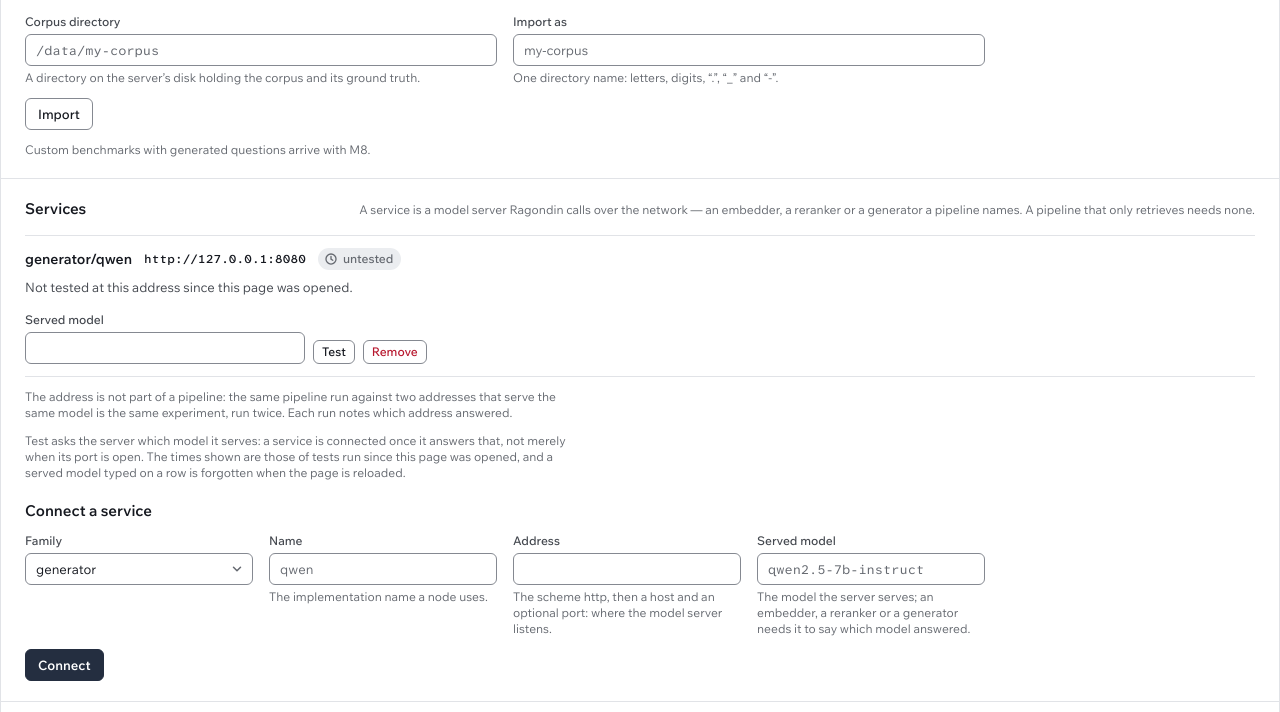
the services › the undo window › writes the removal once the window closes, and keeps the row’s place saying so
(page scrolled)
Click the button with aria-label "Remove generator/qwen": (395, 352) [363, 340, 427, 364]
Wait 10000 ms
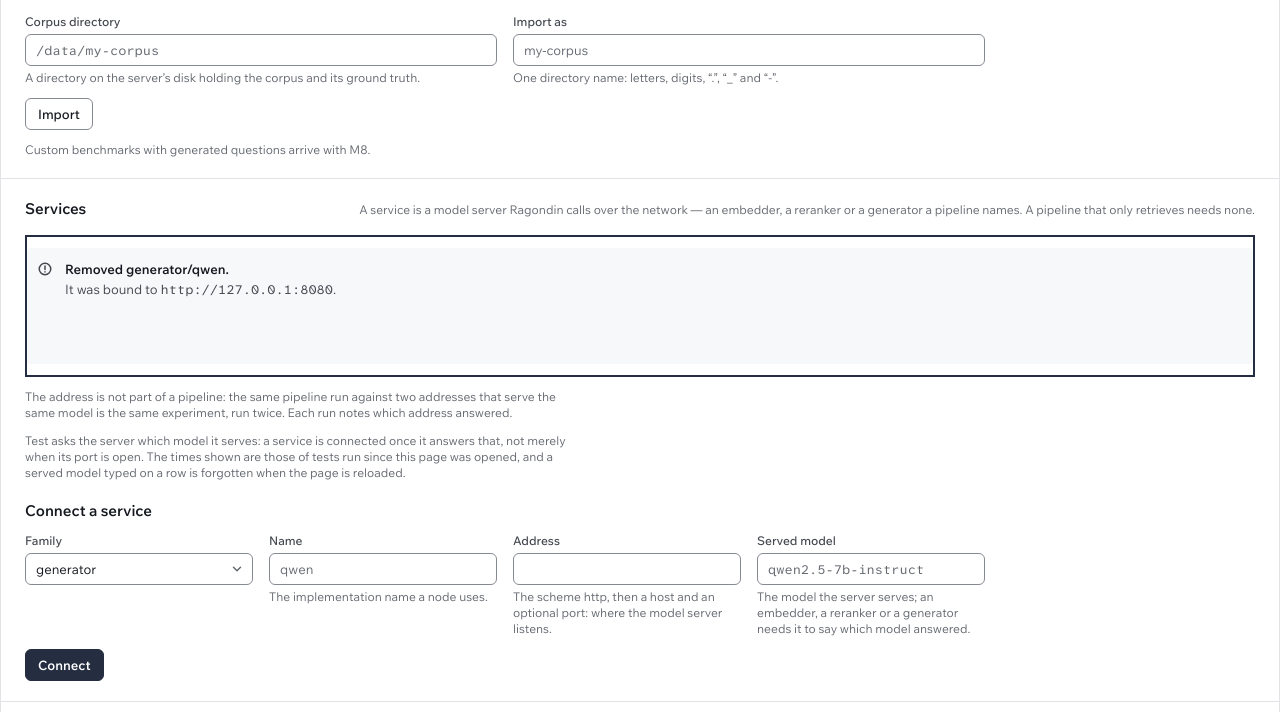
expect the list item with aria-label "generator/qwen, removed" shows "Removed generator/qwen.": met, box [65, 261, 229, 277]
